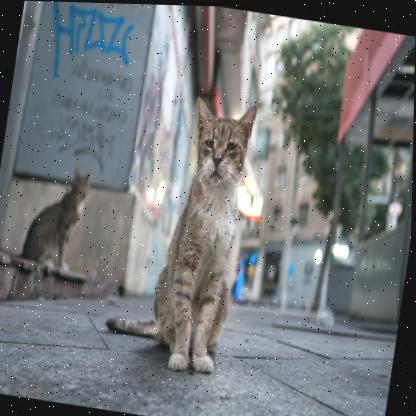cat: (158, 96, 257, 378)
